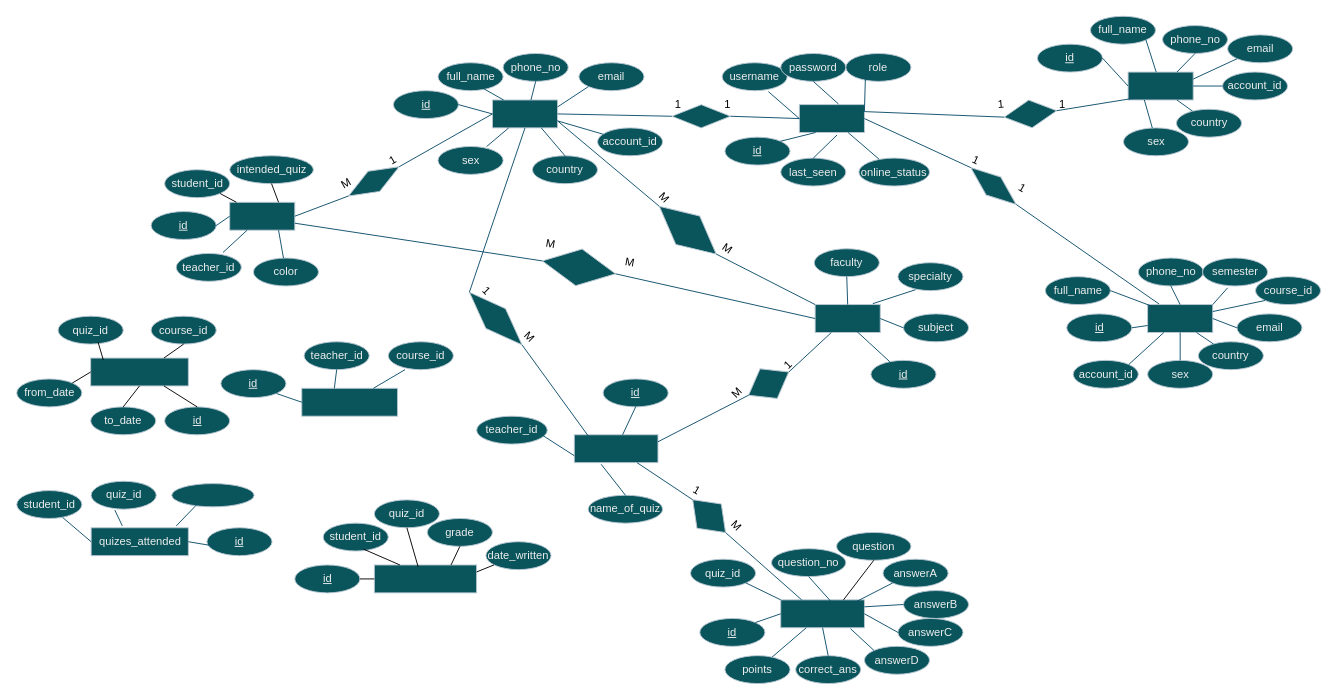
Image size: 1336x700. Some labels were removed from this diagram. The shapes that lost their labels are listed below. From the top down, each one's box as (x1, y1, x2, y2) in pixels, then its label:
(1127, 71, 1193, 100): admins
(492, 99, 558, 128): teachers
(798, 104, 864, 133): accounts
(229, 201, 295, 230): quizes_info
(814, 304, 880, 332): courses
(1147, 304, 1213, 332): students
(90, 357, 188, 386): quizes_for_course
(301, 387, 398, 416): teaching_courses
(573, 434, 658, 463): quizes
(171, 483, 254, 507): points_earned
(373, 564, 477, 593): grades_of_student
(780, 599, 864, 628): quiz_questions
